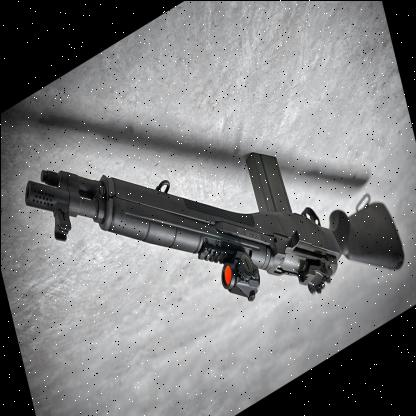rifle: (15, 0, 416, 416)
